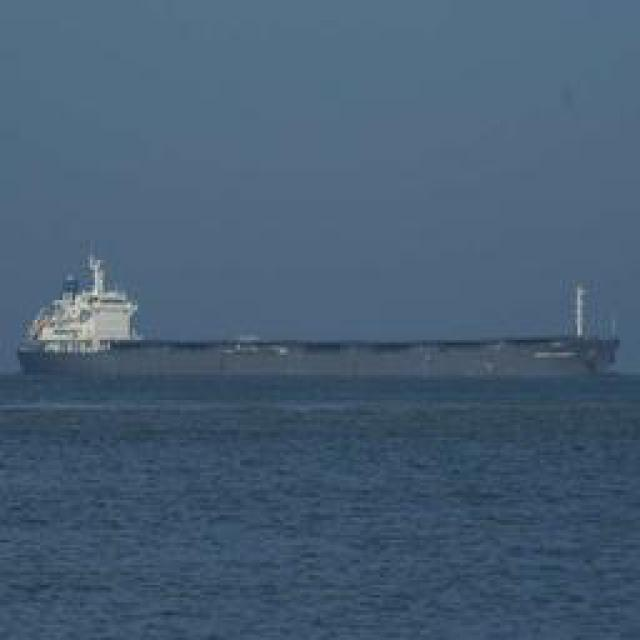Ship: (20, 250, 160, 378)
